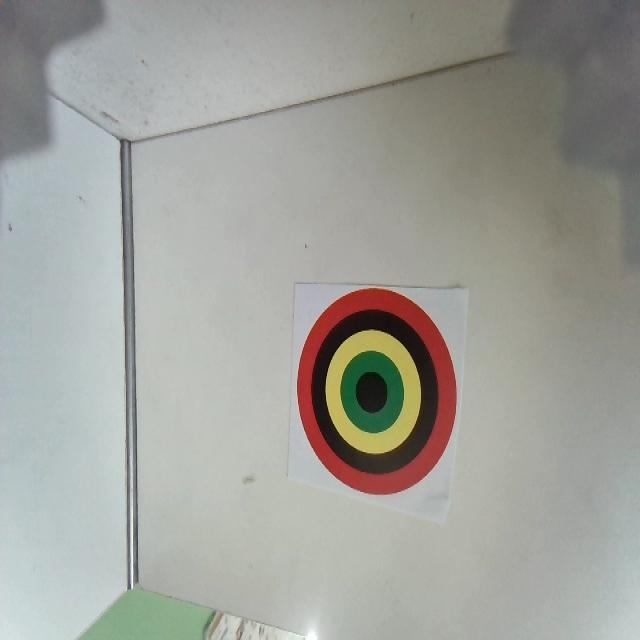cogn: (296, 287, 457, 496)
